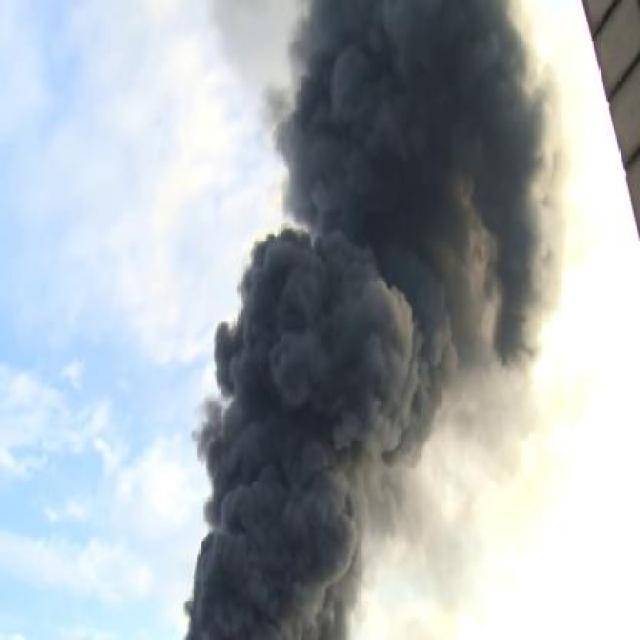Smoke: (178, 0, 574, 640)
